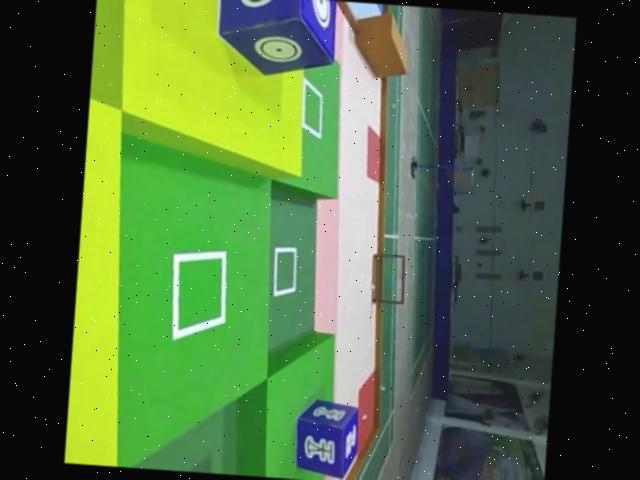R2 Real Blue: (209, 0, 337, 76), (291, 394, 361, 477)
